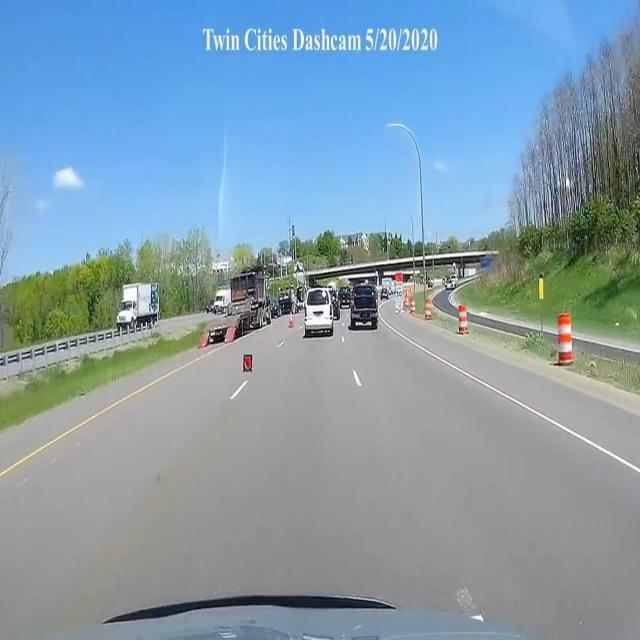Traffic Cone: (244, 351, 257, 371), (288, 311, 295, 329)
